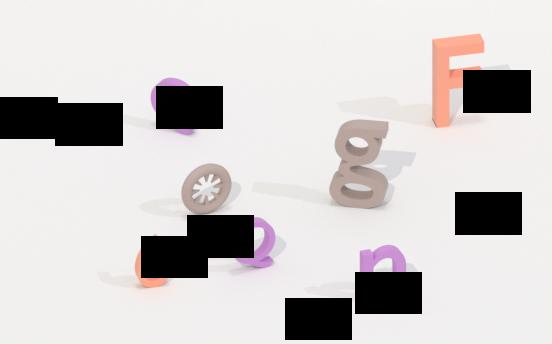6: (132, 232, 171, 290)
F: (429, 28, 489, 131)
g: (328, 116, 392, 212)
n: (357, 242, 408, 307)
q: (150, 76, 200, 139), (227, 216, 277, 272)
tron: (181, 161, 233, 219)
